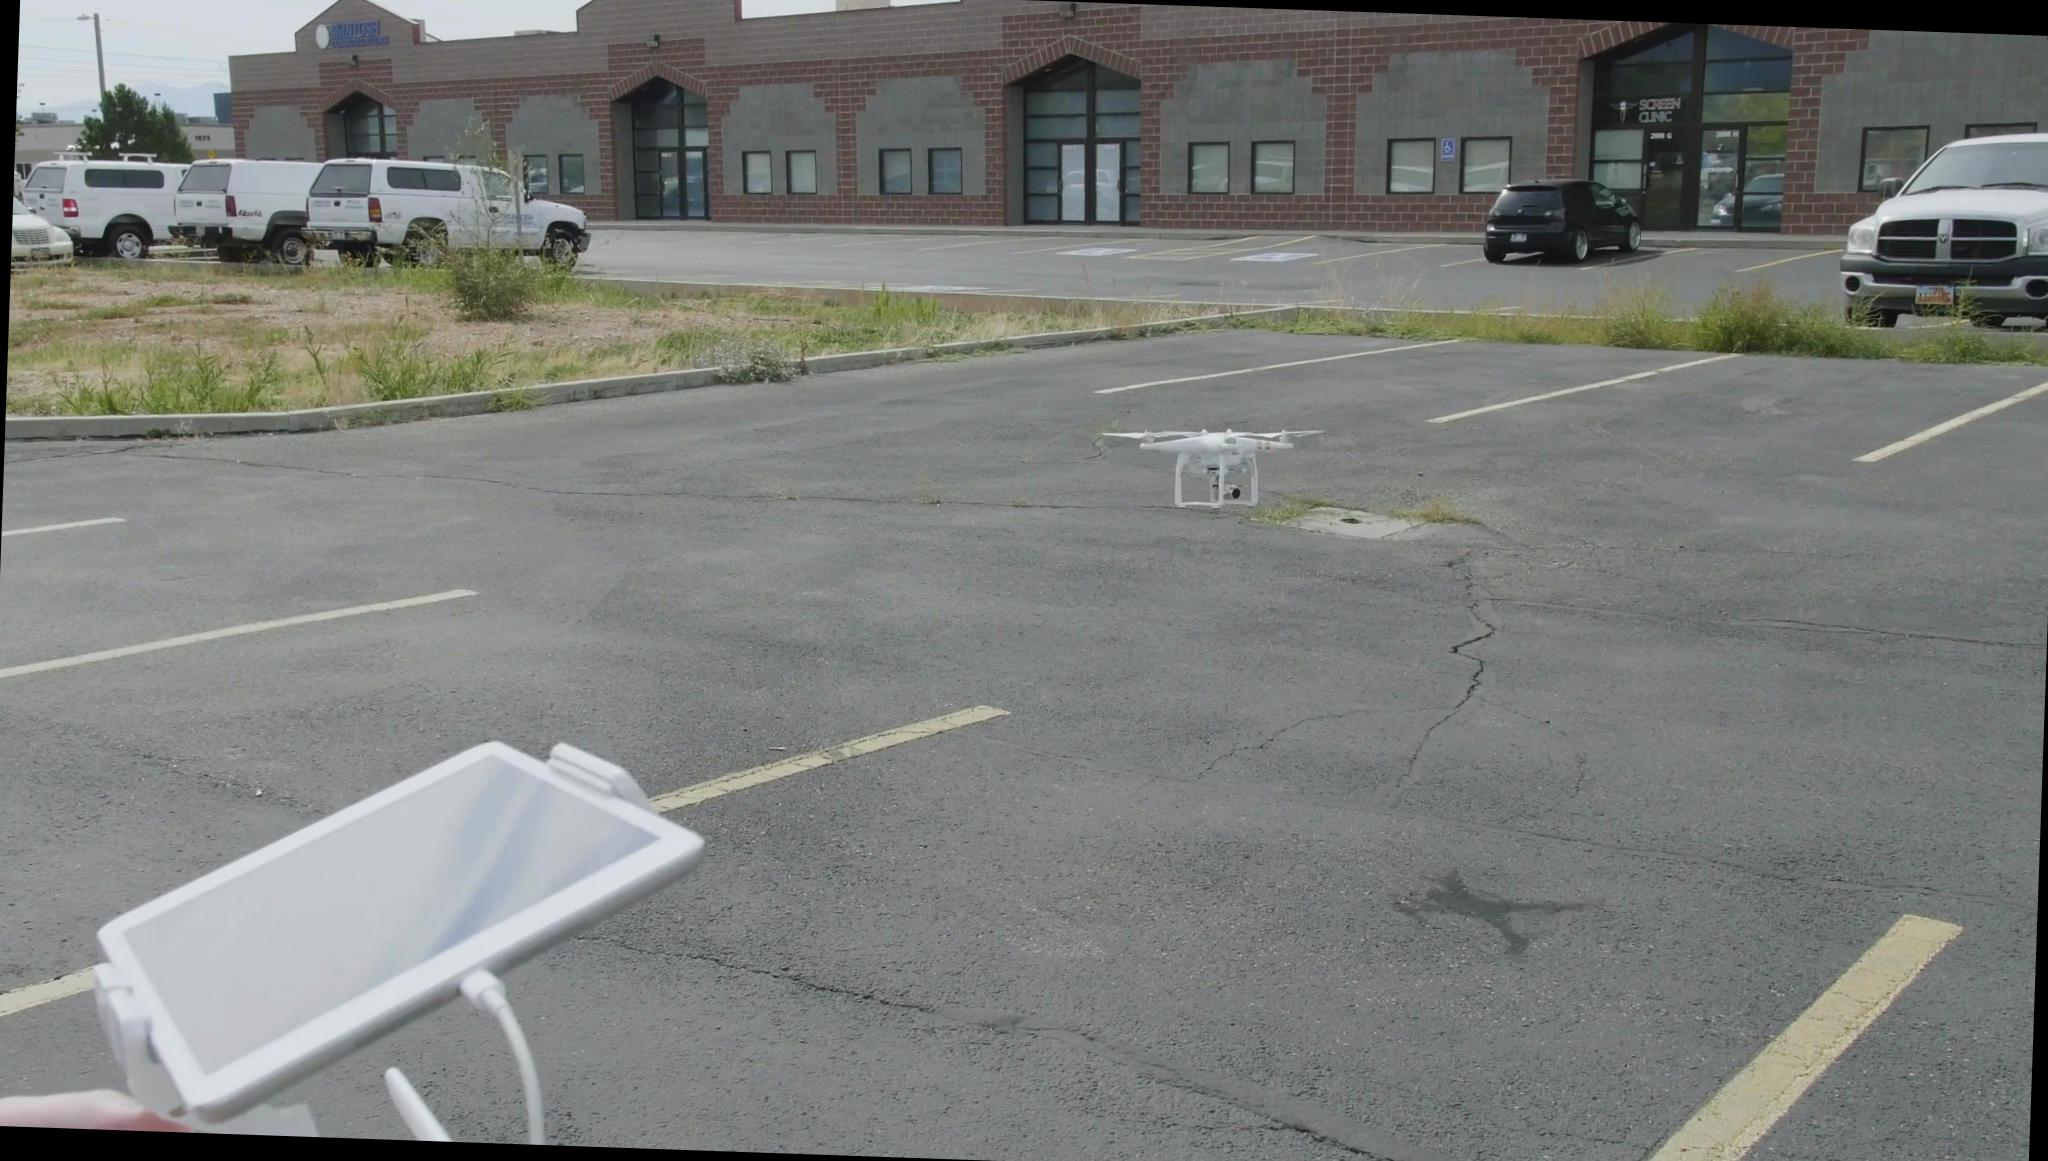drone: (1107, 417, 1321, 516)
